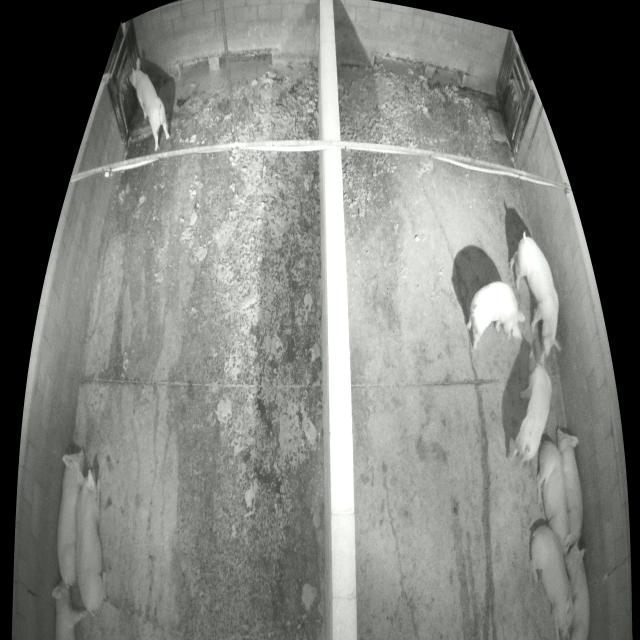pig: (510, 237, 562, 359), (529, 526, 579, 639), (507, 349, 551, 468), (75, 471, 106, 612), (534, 440, 570, 558), (56, 449, 85, 588), (466, 281, 525, 349), (128, 57, 170, 150), (554, 430, 584, 540), (566, 536, 591, 639), (51, 582, 87, 639)
